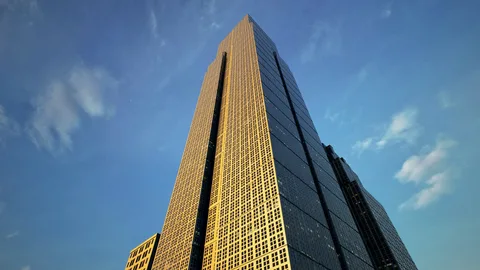high_rise_building: (192, 15, 322, 267)
